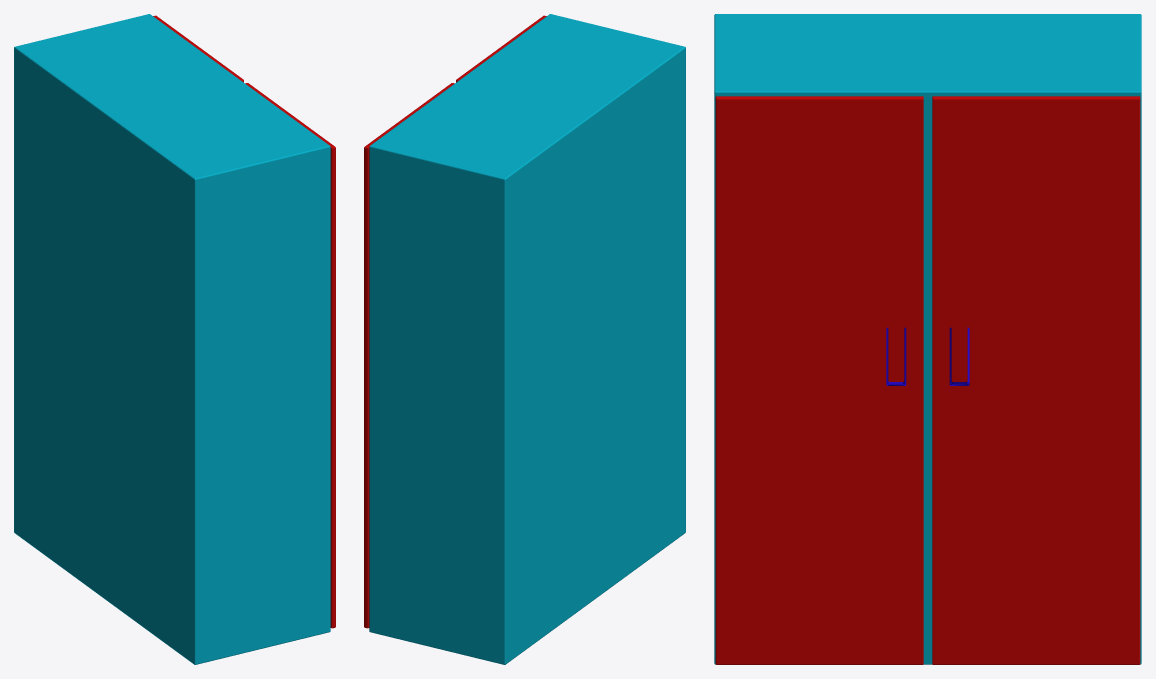
Rendered from Closet.fbx.
3 renders of one model, left to right at view 1: azimuth 30°, elevation 25°; view 2: azimuth 150°, elevation 25°; view 3: azimuth 270°, elevation 25°, orthographic. The views are drawn at different scales.
Parts seen in each view (by area): view 1: Cube_1, Cube_2_4; view 2: Cube_1, Cube_2_4; view 3: Cube_2_4, Cube_1, Cube_2.
Boxes of the visible parts, <box> form: Cube_1: <box>14,14,330,664</box>; Cube_2_4: <box>153,15,335,628</box>; Cube_1: <box>369,14,685,664</box>; Cube_2_4: <box>364,15,546,628</box>; Cube_2_4: <box>715,96,1140,664</box>; Cube_1: <box>714,14,1141,664</box>; Cube_2: <box>886,327,969,385</box>.
Size of the model in its own units: 38.79 by 120 by 81.
